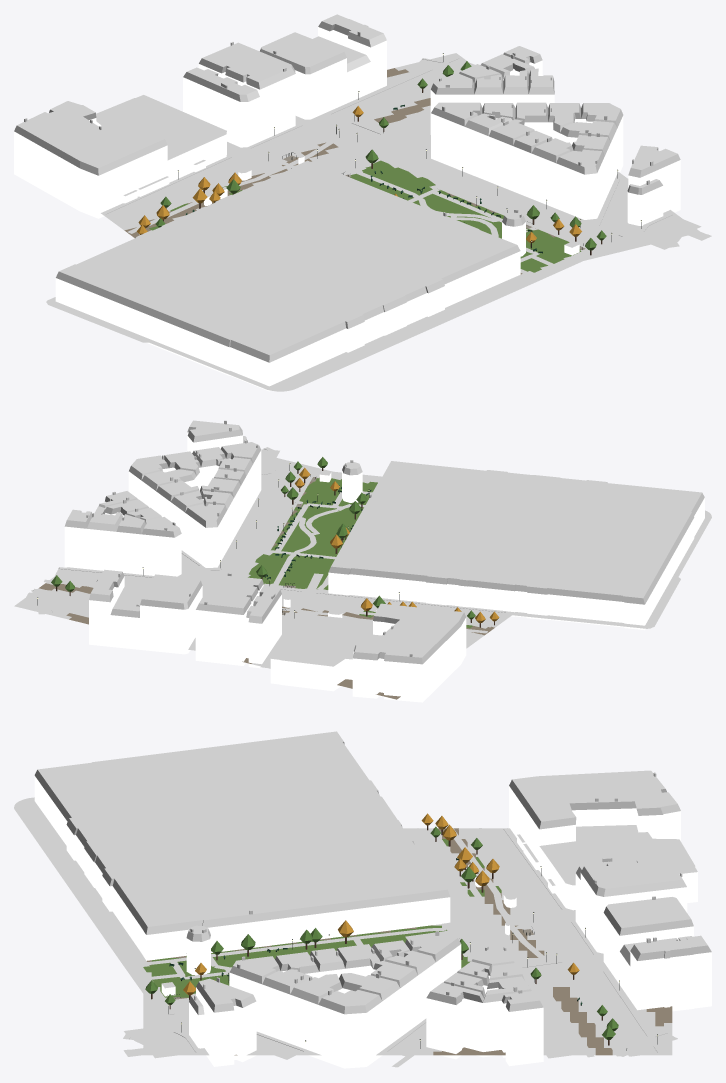
File: zone_F2.glb
The picture shows the model from 3 angles, top to bottom: view 1: azimuth 30°, elevation 25°; view 2: azimuth 150°, elevation 25°; view 3: azimuth 270°, elevation 25°; orthographic projection. The views are drawn at different scales.
Parts seen in each view (by area): view 1: zone_F2_batiments, zone_F2_sol_NOCOL, zone_F2_terrain, zone_F2_decor_NOCOL; view 2: zone_F2_batiments, zone_F2_sol_NOCOL, zone_F2_terrain, zone_F2_decor_NOCOL; view 3: zone_F2_batiments, zone_F2_sol_NOCOL, zone_F2_terrain, zone_F2_decor_NOCOL.
Boxes of the visible parts, x1,y1,x2,y2 form: zone_F2_batiments: (14, 14, 680, 391); zone_F2_sol_NOCOL: (46, 57, 711, 391); zone_F2_terrain: (101, 53, 699, 274); zone_F2_decor_NOCOL: (136, 53, 641, 255); zone_F2_batiments: (64, 420, 704, 702); zone_F2_sol_NOCOL: (22, 447, 711, 668); zone_F2_terrain: (14, 458, 511, 699); zone_F2_decor_NOCOL: (37, 457, 499, 627); zone_F2_batiments: (34, 731, 711, 1068); zone_F2_sol_NOCOL: (14, 797, 677, 1067); zone_F2_terrain: (143, 828, 672, 1055); zone_F2_decor_NOCOL: (145, 813, 657, 1050).
Bounding box in the file's own units: 258 × 27.63 × 245.
